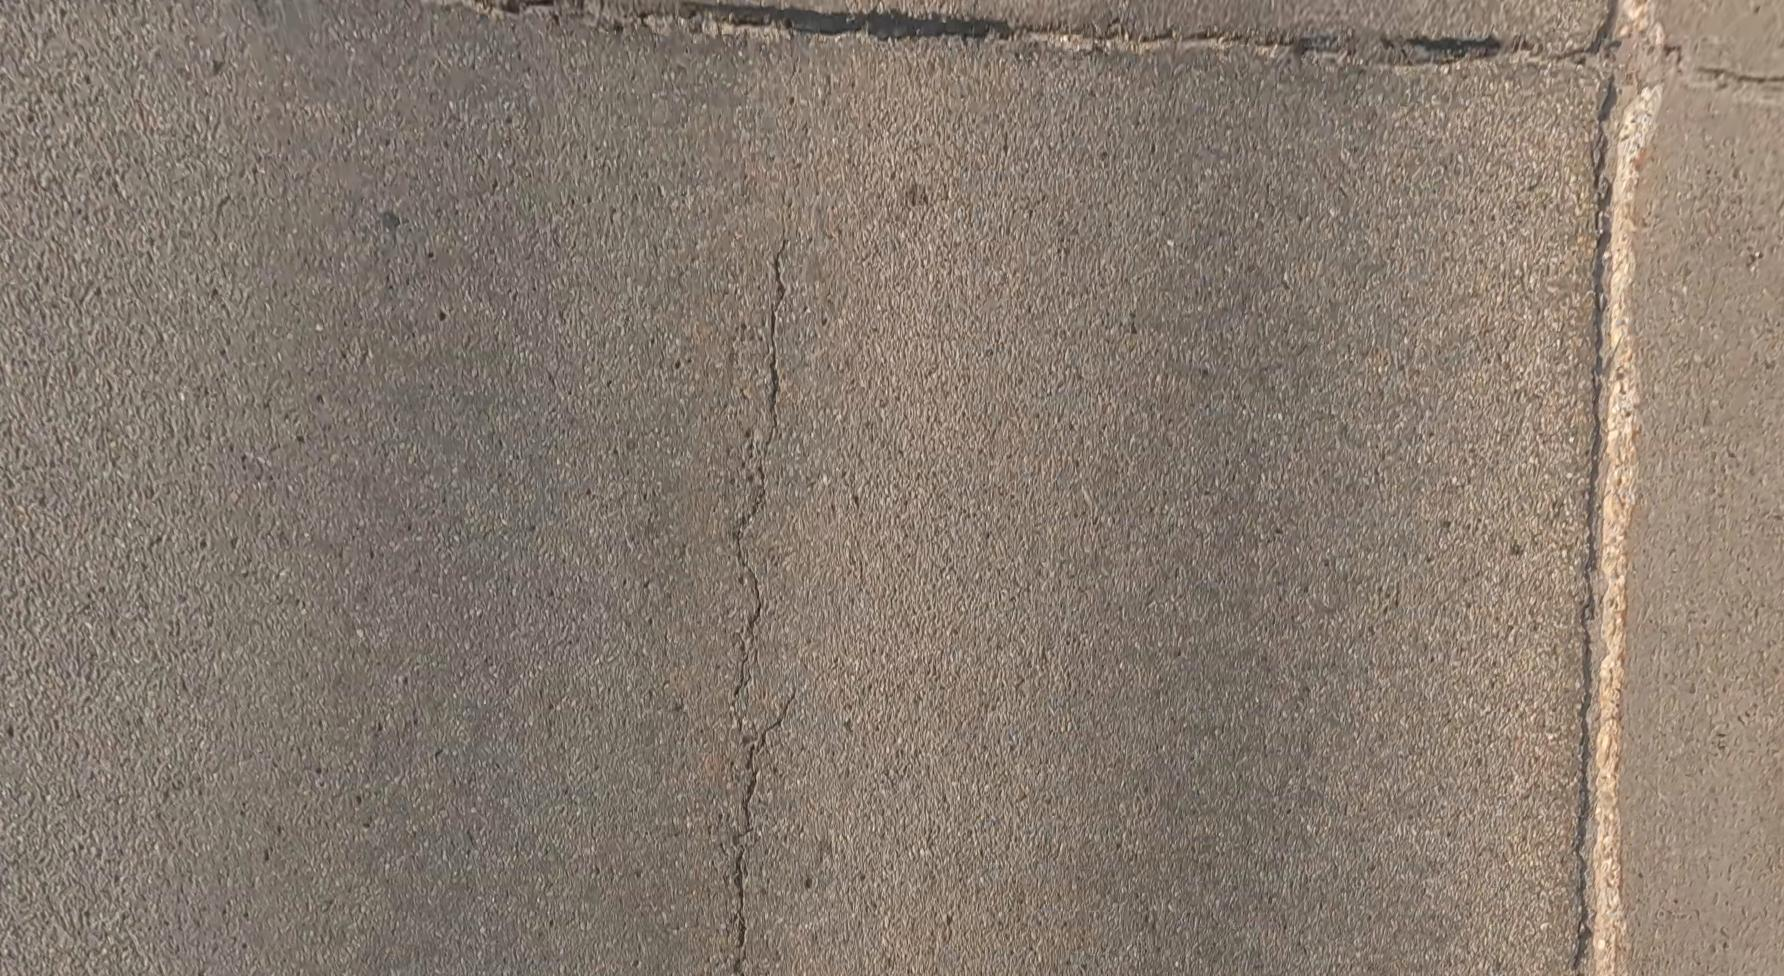pothole: (1588, 0, 1667, 175)
